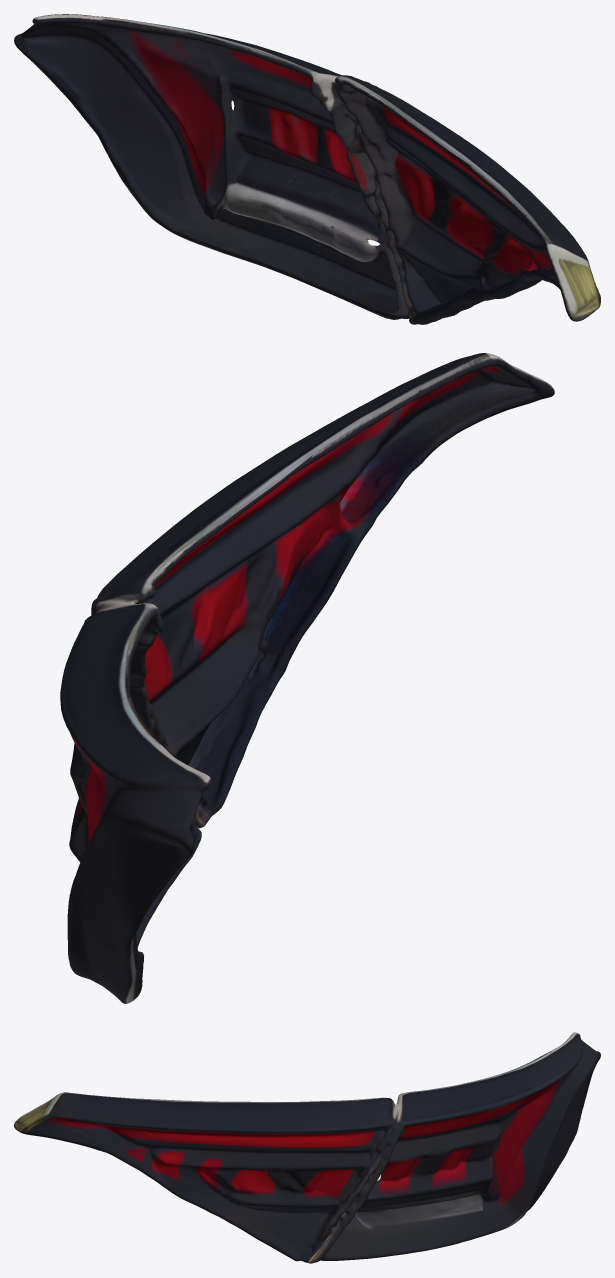
The model's file is backlight.glb.
3 renders of one model, top to bottom at view 1: azimuth 30°, elevation 25°; view 2: azimuth 150°, elevation 25°; view 3: azimuth 270°, elevation 25°, orthographic. The views are drawn at different scales.
Visible parts, largest first — view 1: tripo_node_14e1587c-e9a6-4568-a907-baf408a11ce1; view 2: tripo_node_14e1587c-e9a6-4568-a907-baf408a11ce1; view 3: tripo_node_14e1587c-e9a6-4568-a907-baf408a11ce1.
Part boxes in pixels (x1=…): tripo_node_14e1587c-e9a6-4568-a907-baf408a11ce1: x1=14, y1=14, x2=600, y2=324; tripo_node_14e1587c-e9a6-4568-a907-baf408a11ce1: x1=60, y1=353, x2=554, y2=1003; tripo_node_14e1587c-e9a6-4568-a907-baf408a11ce1: x1=14, y1=1032, x2=600, y2=1263.
Bounding box in the file's own units: 0.3165 × 0.2873 × 0.9461.
1 material, 1 textured.
